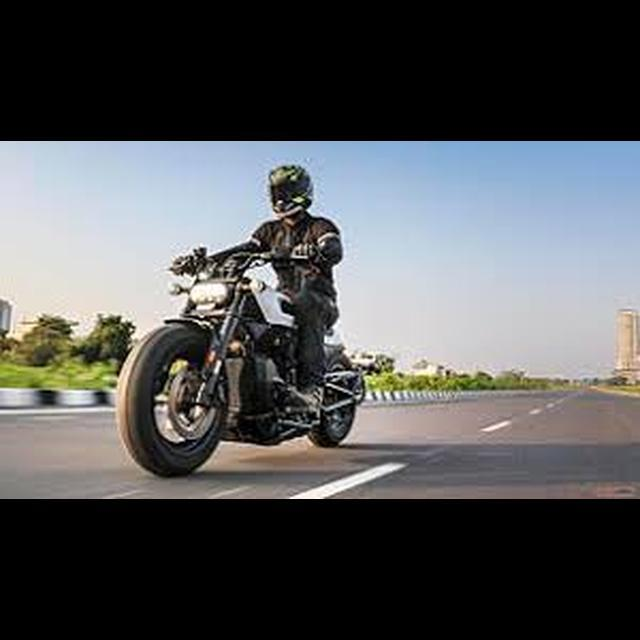motorcycle: (117, 239, 370, 485)
